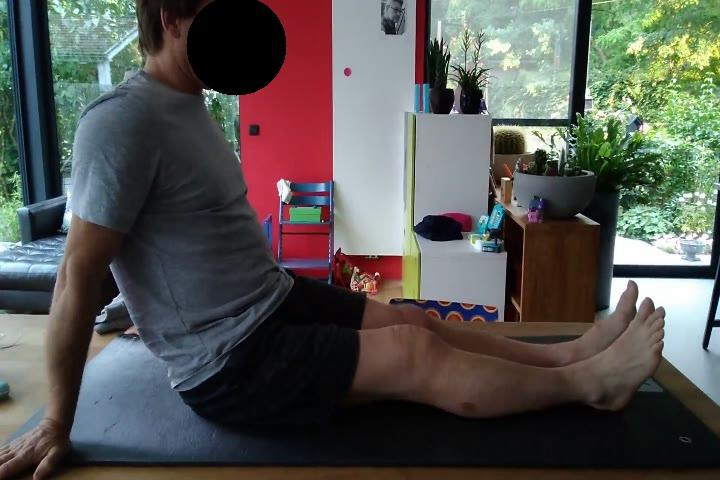lower_body: (178, 277, 669, 433)
